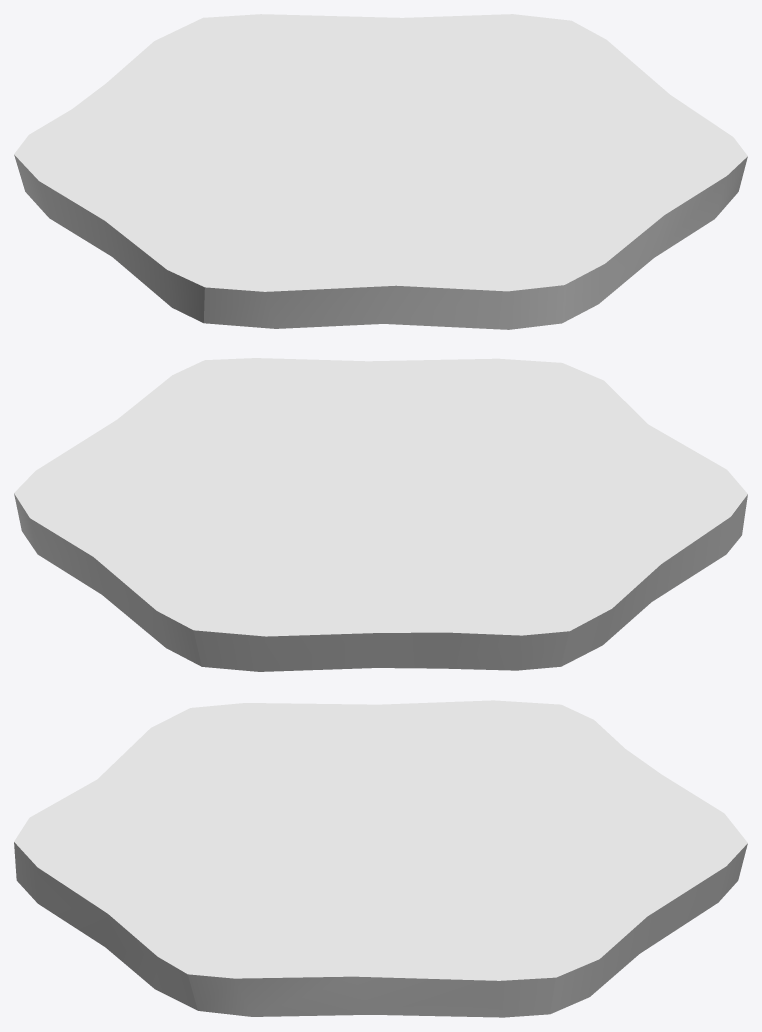
The model's file is Urban_RoadBase.fbx.
The picture shows the model from 3 angles, top to bottom: view 1: azimuth 30°, elevation 25°; view 2: azimuth 150°, elevation 25°; view 3: azimuth 270°, elevation 25°; orthographic projection.
Parts seen in each view (by area): view 1: Urban_RoadBase; view 2: Urban_RoadBase; view 3: Urban_RoadBase.
Part boxes in pixels (left/top/right/bottom): Urban_RoadBase: left=14, top=14, right=747, bottom=329; Urban_RoadBase: left=14, top=358, right=747, bottom=671; Urban_RoadBase: left=14, top=700, right=747, bottom=1017.
Size of the model in its own units: 0.9239 by 0.0619 by 1.02.
